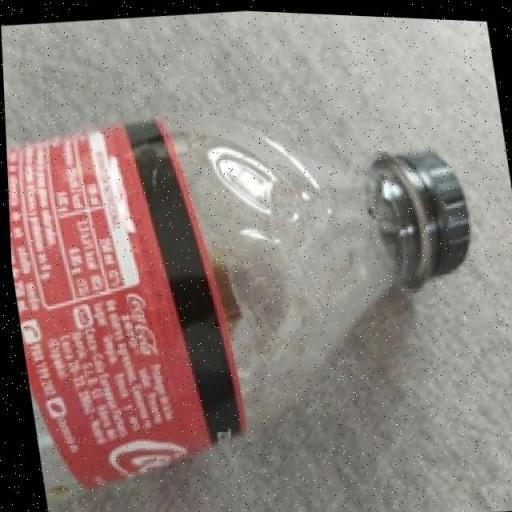plastic: (3, 81, 511, 512)
